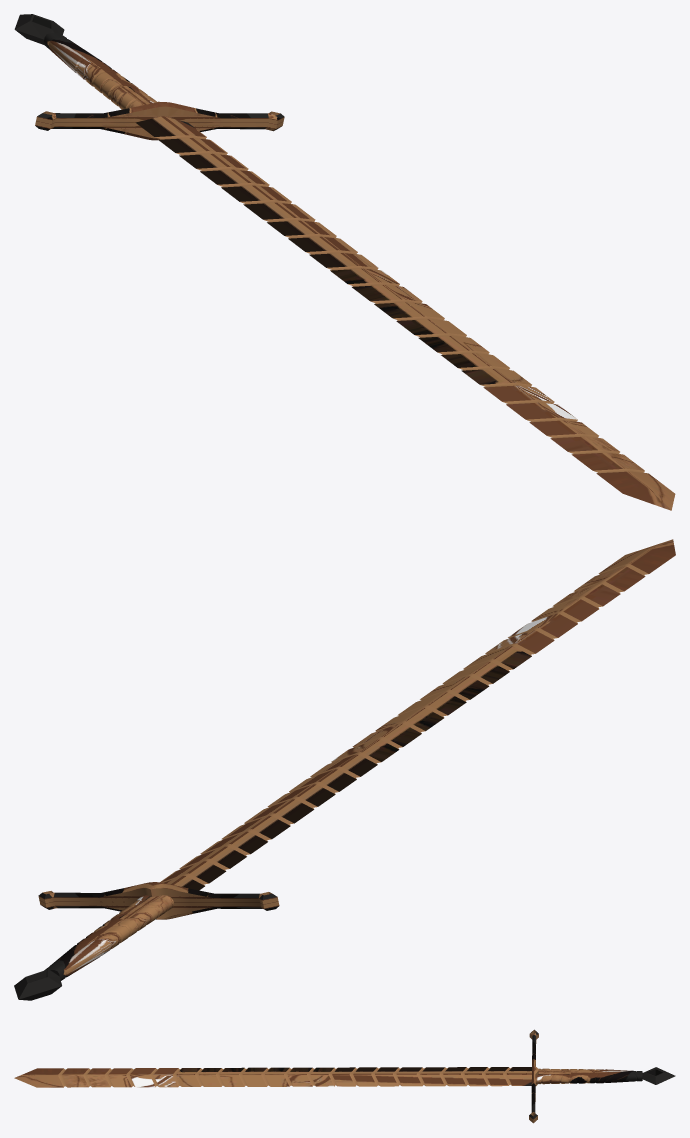
File: lucio_sword.fbx
The picture shows the model from 3 angles, top to bottom: view 1: azimuth 30°, elevation 25°; view 2: azimuth 150°, elevation 25°; view 3: azimuth 270°, elevation 25°; orthographic projection. The views are drawn at different scales.
Visible parts, largest first — view 1: lucio_sword_2; view 2: lucio_sword_2; view 3: lucio_sword_2.
Boxes of the visible parts, x1=… form: lucio_sword_2: x1=14, y1=14, x2=675, y2=510; lucio_sword_2: x1=14, y1=539, x2=675, y2=1000; lucio_sword_2: x1=14, y1=1029, x2=675, y2=1123.
Bounding box in the file's own units: 28.27 × 7.89 × 130.
